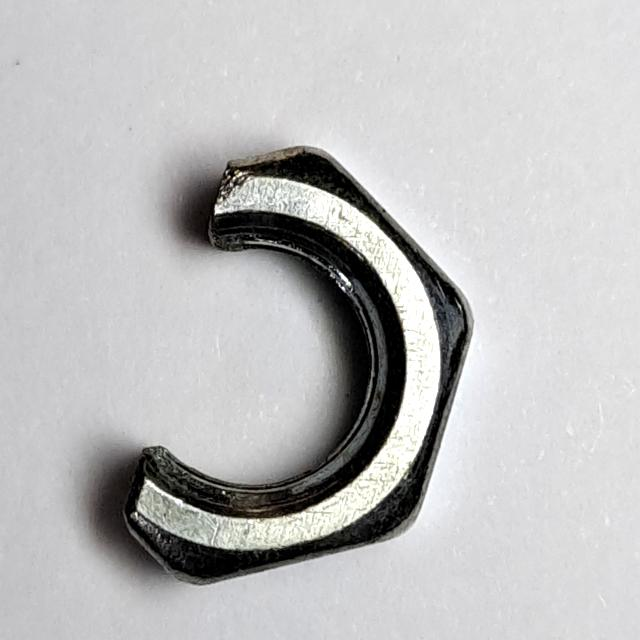Fracture: (107, 136, 482, 601)
